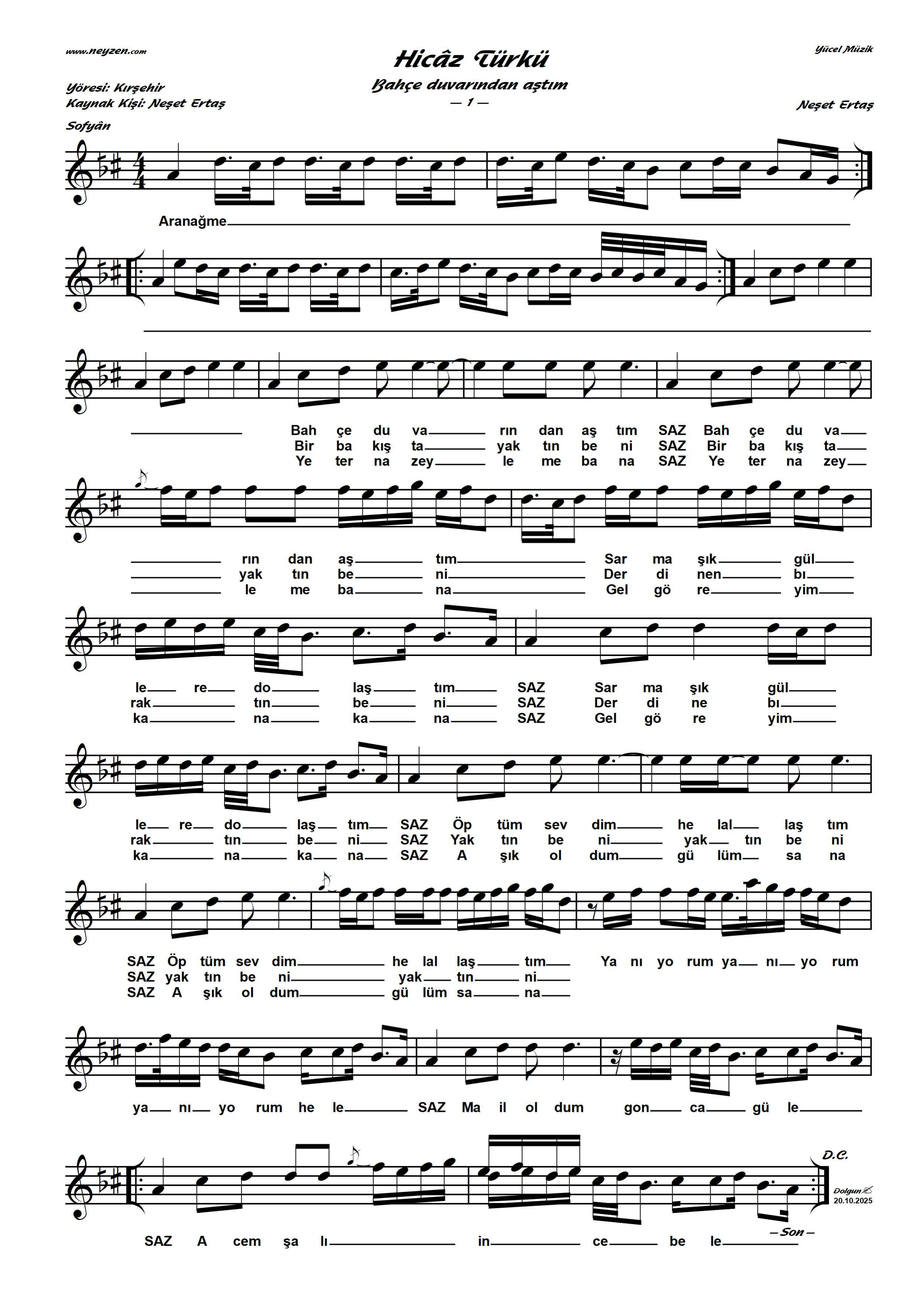barline: (870, 360, 872, 399), (870, 258, 872, 296), (870, 489, 872, 527), (870, 618, 872, 656), (486, 152, 488, 189), (724, 259, 726, 296), (258, 361, 260, 398), (463, 361, 465, 398), (656, 361, 658, 398), (515, 618, 517, 655), (398, 755, 400, 792), (870, 755, 872, 792), (870, 892, 872, 929), (310, 892, 312, 929), (870, 1038, 872, 1075), (135, 1167, 137, 1204), (861, 152, 863, 188), (380, 259, 382, 295), (135, 259, 137, 295), (468, 1167, 470, 1203), (511, 489, 512, 526), (576, 892, 577, 929), (416, 1038, 417, 1075), (600, 1038, 601, 1075), (818, 1167, 819, 1203)
comma_4_down: (97, 1167, 108, 1193), (97, 756, 108, 782), (97, 490, 108, 516), (97, 361, 108, 387), (97, 152, 108, 178), (97, 1039, 108, 1064), (97, 893, 108, 918), (98, 259, 108, 285), (98, 619, 108, 644)
comma_4_up: (111, 1167, 121, 1194), (111, 490, 121, 517), (111, 259, 121, 286), (111, 152, 121, 179), (111, 1039, 121, 1065), (111, 893, 121, 919), (111, 756, 121, 782), (111, 619, 121, 645), (111, 362, 121, 388)
notehead_filled: (506, 272, 519, 282), (459, 263, 472, 273), (358, 263, 371, 273), (287, 263, 300, 273), (240, 1171, 253, 1181), (317, 1171, 330, 1181), (616, 1171, 629, 1181), (639, 1180, 652, 1190), (733, 1171, 746, 1181), (347, 769, 360, 779), (195, 1176, 209, 1185), (214, 156, 226, 166), (305, 156, 317, 166), (363, 156, 375, 166), (396, 156, 408, 166), (454, 156, 466, 166), (496, 156, 508, 166), (827, 175, 839, 185), (794, 263, 806, 273), (549, 263, 561, 273), (417, 263, 429, 273), (310, 263, 322, 273), (239, 263, 251, 273), (196, 263, 208, 273), (373, 1162, 385, 1172), (511, 1162, 523, 1172), (672, 1176, 684, 1186), (135, 1043, 147, 1053), (630, 1038, 642, 1048), (728, 1052, 740, 1062), (160, 485, 172, 495), (245, 485, 257, 495), (294, 485, 306, 495), (338, 485, 350, 495), (460, 485, 472, 495), (521, 494, 533, 504), (573, 494, 585, 504), (605, 485, 617, 495), (656, 485, 668, 495), (842, 494, 854, 504), (194, 623, 206, 633), (301, 632, 313, 642), (269, 769, 281, 779), (423, 887, 435, 897), (439, 887, 451, 897), (491, 887, 503, 897), (746, 878, 758, 888), (272, 157, 285, 166), (339, 161, 352, 170), (531, 161, 544, 170), (646, 166, 659, 175), (769, 268, 782, 277), (695, 282, 708, 291), (632, 273, 645, 282), (590, 273, 603, 282), (569, 268, 582, 277), (207, 361, 220, 370), (750, 366, 763, 375), (443, 1158, 456, 1167), (487, 1171, 500, 1180), (568, 1167, 581, 1176), (786, 1186, 799, 1195), (198, 1043, 211, 1052), (496, 1043, 509, 1052), (650, 1043, 663, 1052), (386, 485, 399, 494), (435, 490, 448, 499), (484, 495, 497, 504), (277, 623, 290, 632), (433, 632, 446, 641), (767, 623, 780, 632), (179, 760, 192, 769), (375, 774, 388, 783), (456, 765, 469, 774), (503, 760, 516, 769), (394, 888, 407, 897), (473, 892, 486, 901), (507, 883, 520, 892), (524, 888, 537, 897), (659, 888, 672, 897), (249, 161, 261, 170), (430, 161, 442, 170), (555, 152, 567, 161), (588, 157, 600, 166), (712, 157, 724, 166), (766, 166, 778, 175), (844, 259, 856, 268), (818, 259, 830, 268), (527, 268, 539, 277), (438, 259, 450, 268), (390, 268, 402, 277), (337, 268, 349, 277), (218, 268, 230, 277), (184, 366, 196, 375), (338, 366, 350, 375), (376, 361, 388, 370), (473, 361, 485, 370), (502, 361, 514, 370), (545, 361, 557, 370), (583, 361, 595, 370), (788, 361, 800, 370), (824, 361, 836, 370), (849, 361, 861, 370), (285, 1172, 297, 1181), (396, 1167, 408, 1176), (420, 1162, 432, 1171), (478, 1167, 490, 1176), (521, 1167, 533, 1176), (546, 1172, 558, 1181), (592, 1176, 604, 1185), (757, 1181, 769, 1190), (159, 1034, 171, 1043), (179, 1038, 191, 1047), (218, 1043, 230, 1052), (263, 1052, 275, 1061), (352, 1043, 364, 1052), (371, 1052, 383, 1061), (396, 1057, 408, 1066), (465, 1048, 477, 1057), (525, 1043, 537, 1052), (563, 1043, 575, 1052), (670, 1038, 682, 1047), (709, 1043, 721, 1052), (787, 1048, 799, 1057), (806, 1043, 818, 1052), (826, 1052, 838, 1061), (185, 490, 197, 499), (209, 485, 221, 494), (362, 490, 374, 499), (411, 480, 423, 489), (552, 499, 564, 508), (629, 490, 641, 499), (697, 485, 709, 494), (721, 490, 733, 499), (745, 485, 757, 494), (769, 480, 781, 489), (794, 490, 806, 499), (818, 485, 830, 494), (135, 623, 147, 632), (404, 623, 416, 632), (525, 637, 537, 646), (647, 623, 659, 632), (693, 623, 705, 632), (824, 623, 836, 632), (135, 760, 147, 769), (246, 760, 258, 769), (297, 765, 309, 774), (325, 760, 337, 769), (651, 755, 663, 764), (206, 897, 218, 906), (339, 888, 351, 897), (373, 888, 385, 897), (457, 888, 469, 897), (542, 883, 554, 892), (559, 897, 571, 906), (603, 892, 615, 901), (687, 888, 699, 897), (766, 883, 778, 892), (783, 888, 795, 897), (800, 888, 812, 897), (839, 897, 851, 906), (674, 278, 687, 286), (653, 269, 666, 277), (134, 380, 147, 388), (159, 371, 172, 379), (710, 371, 723, 379), (709, 1177, 722, 1185), (300, 1048, 313, 1056), (156, 756, 169, 764), (241, 893, 254, 901), (704, 893, 717, 901), (851, 1057, 862, 1066), (631, 888, 642, 897), (167, 171, 179, 179), (623, 162, 635, 170), (680, 162, 692, 170), (739, 162, 751, 170), (800, 171, 812, 179), (743, 278, 755, 286), (174, 259, 186, 267), (152, 278, 164, 286), (233, 362, 245, 370), (268, 380, 280, 388), (297, 371, 309, 379), (412, 362, 424, 370), (620, 362, 632, 370), (666, 380, 678, 388), (152, 1186, 164, 1194), (238, 1048, 250, 1056), (332, 1048, 344, 1056), (426, 1057, 438, 1065), (755, 1048, 767, 1056), (164, 619, 176, 627), (223, 619, 235, 627), (254, 628, 266, 636), (353, 628, 365, 636), (485, 638, 497, 646), (600, 628, 612, 636), (796, 628, 808, 636), (201, 756, 213, 764), (224, 765, 236, 773), (408, 775, 420, 783), (550, 756, 562, 764), (598, 756, 610, 764), (680, 756, 692, 764), (717, 756, 729, 764), (747, 756, 759, 764), (788, 756, 800, 764), (831, 756, 843, 764), (135, 911, 147, 919), (171, 902, 183, 910), (278, 893, 290, 901), (356, 893, 368, 901), (721, 893, 733, 901), (817, 893, 829, 901), (611, 269, 624, 276), (690, 1048, 701, 1056), (486, 269, 498, 276), (266, 269, 278, 276), (437, 362, 449, 369)
rest: (611, 1049, 623, 1075), (588, 903, 598, 919)
treble_clef: (67, 246, 93, 313), (67, 880, 93, 945), (67, 348, 92, 415), (67, 139, 92, 205), (67, 743, 92, 809), (68, 1026, 93, 1092), (67, 1154, 92, 1220), (68, 477, 92, 544), (68, 606, 92, 672)
